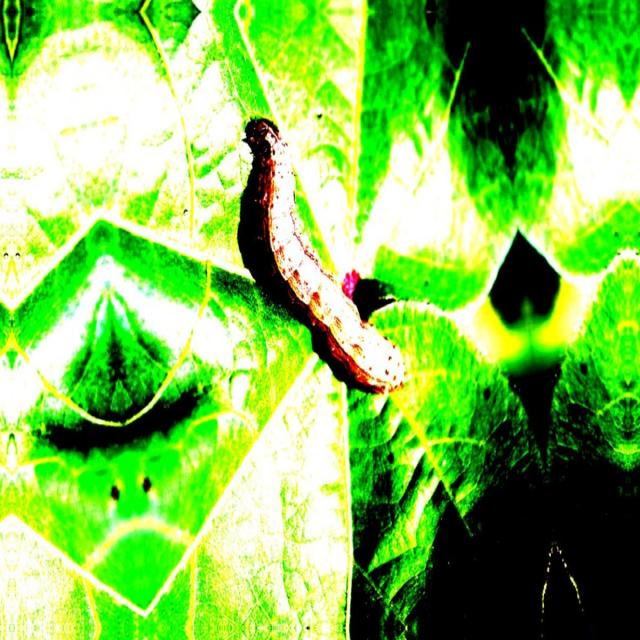Armyworm: (233, 108, 401, 418)
